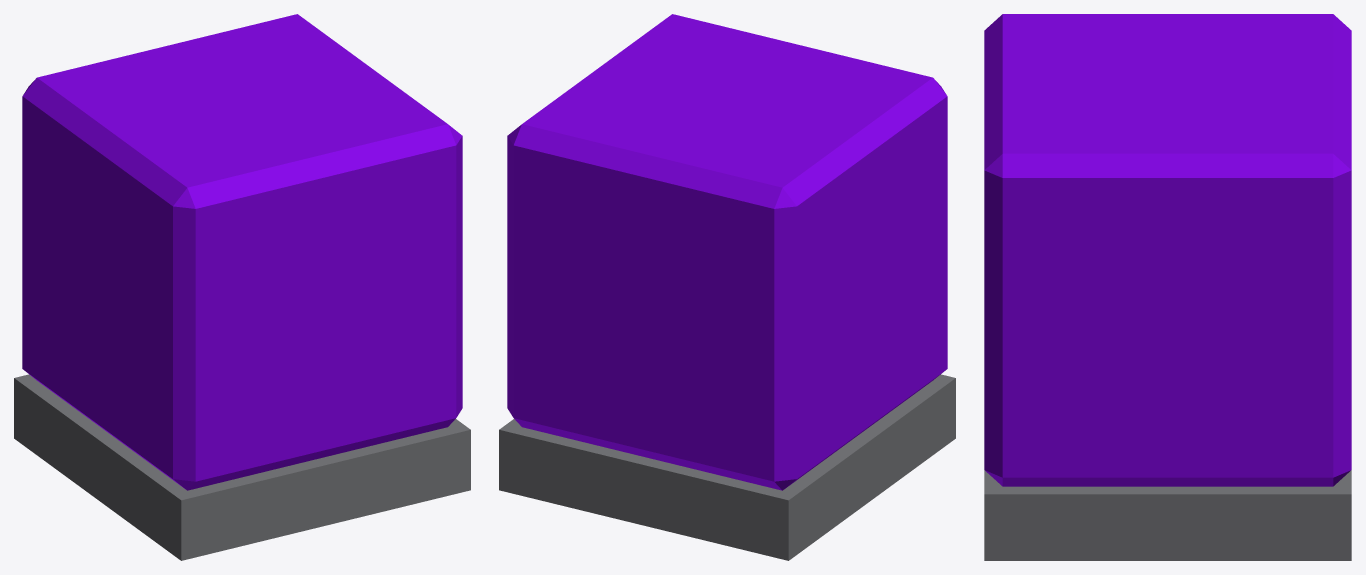
The model's file is Wall.fbx.
The picture shows the model from 3 angles, left to right: view 1: azimuth 30°, elevation 25°; view 2: azimuth 150°, elevation 25°; view 3: azimuth 270°, elevation 25°; orthographic projection. The views are drawn at different scales.
Parts seen in each view (by area): view 1: pCube2, pCube1; view 2: pCube2, pCube1; view 3: pCube2, pCube1.
Part boxes in pixels (x1,y1,x2,y2): pCube2: [22, 14, 462, 490]; pCube1: [14, 374, 470, 560]; pCube2: [507, 14, 947, 490]; pCube1: [499, 374, 955, 560]; pCube2: [984, 14, 1351, 486]; pCube1: [984, 470, 1351, 560].
Size of the model in its own units: 1 by 1.2 by 1.
